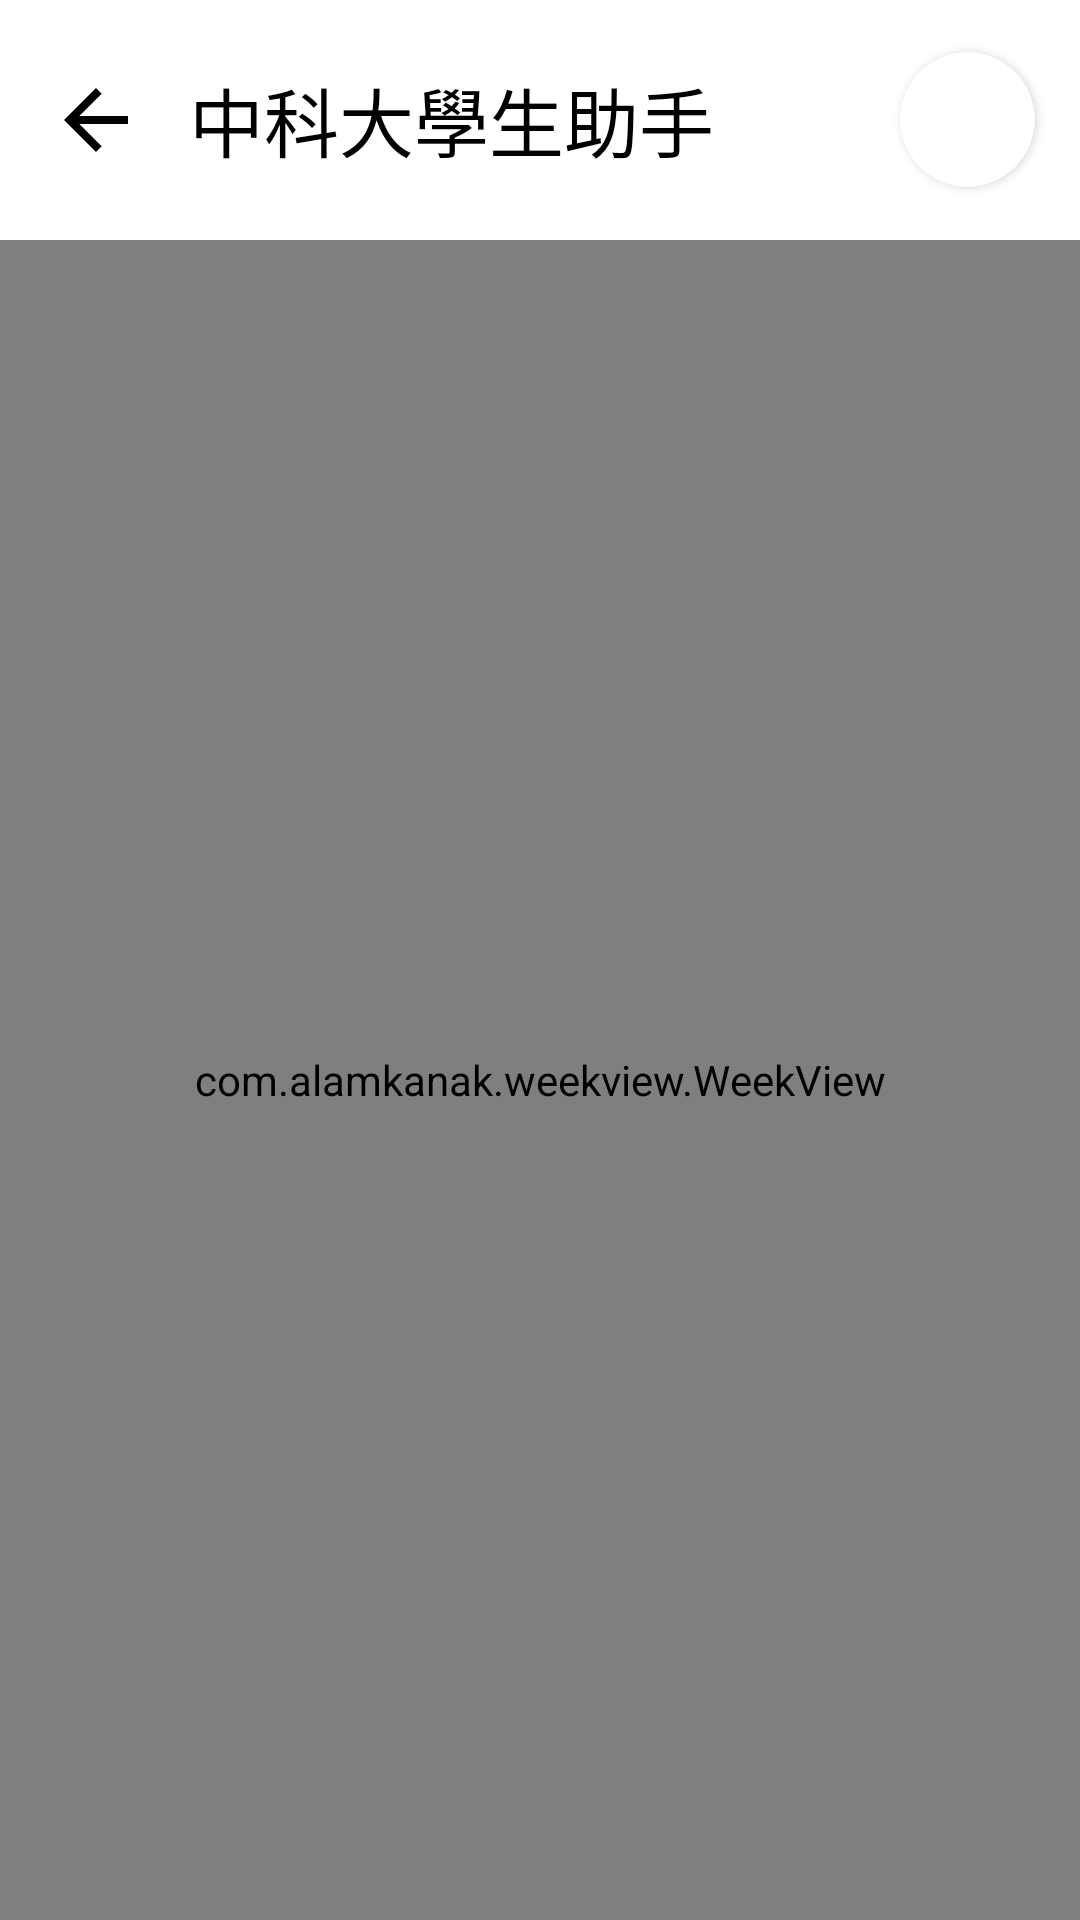

Screen size 1080×1920. Icon name, then its box in pixels as bbox(x1, y1, x2, y2):
back: bbox(64, 88, 128, 152)
